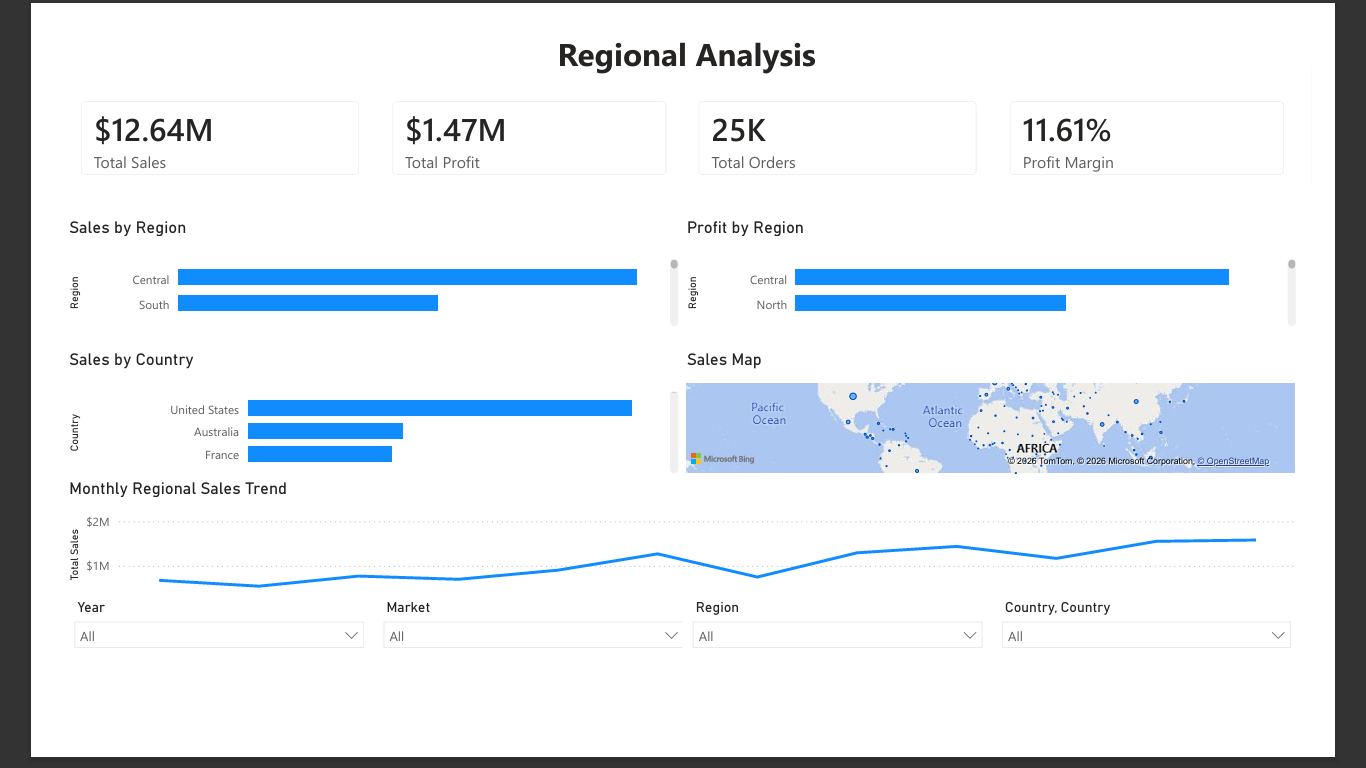

The page's visual inventory and layout, read from the dashboard file:
{"tool":"powerbi","page":{"name":"         Regional Analysis","canvas":[1280,720],"ordinal":3},"visuals":[{"type":"textbox","box":[9.6,0,1259.4,56.4],"z":0},{"type":"cardVisual","fields":{"Data":["superstore.Total Sales"]},"box":[9.6,59.2,316.6,108.7],"z":0,"group":"g1"},{"type":"clusteredBarChart","fields":{"Category":["superstore.Region"],"Y":["superstore.Total Sales"]},"box":[9.6,194.1,630.4,115.6],"z":0,"group":"g2"},{"type":"group","id":"g1","title":"Group 1","box":[9.6,59.2,1259.4,108.7],"z":1000},{"type":"cardVisual","fields":{"Data":["superstore.Total Profit"]},"box":[326.2,59.2,313.8,108.7],"z":1000,"group":"g1"},{"type":"clusteredBarChart","fields":{"Category":["superstore.Region"],"Y":["superstore.Total Profit"]},"box":[638.6,194.1,630.4,115.6],"z":1000,"group":"g2"},{"type":"cardVisual","fields":{"Data":["superstore.Total Orders"]},"box":[638.6,59.2,317,108.7],"z":2000,"group":"g1"},{"type":"group","id":"g2","title":"Group 2","box":[9.6,194.1,1259.4,115.6],"z":2000},{"type":"clusteredBarChart","fields":{"Category":["superstore.Country"],"Y":["superstore.Total Sales"]},"box":[9.6,328.9,630,130.7],"z":2000,"group":"g3"},{"type":"cardVisual","fields":{"Data":["superstore.Profit Margin"]},"box":[955.1,59.2,313.8,108.7],"z":3000,"group":"g1"},{"type":"lineChart","title":"Monthly Regional Sales Trend","fields":{"Y":["superstore.Total Sales"],"Category":["Calendar.Date.Variation.Date Hierarchy.Month"]},"box":[9.6,459.7,1259.4,118.4],"z":3000},{"type":"group","id":"g3","title":"Group 3","box":[9.6,328.9,1259.4,130.8],"z":4000},{"type":"map","title":"Sales Map","fields":{"Category":["superstore.Country"],"Size":["superstore.Total Sales"]},"box":[638.6,328.9,630.4,130.8],"z":4000,"group":"g3"},{"type":"slicer","fields":{"Values":["Calendar.Date.Variation.Date Hierarchy.Year"]},"box":[9.6,578.1,315.2,111.5],"z":5000},{"type":"slicer","fields":{"Values":["superstore.Market"]},"box":[324.8,578.1,326.2,111.5],"z":6000},{"type":"slicer","fields":{"Values":["superstore.Region"]},"box":[640,578.1,315.2,111.5],"z":7000},{"type":"slicer","fields":{"Values":["superstore.Country","superstore.Country"]},"box":[955.2,578.1,313.8,111.5],"z":8000}]}

Visuals, with their boxes in screenshot pixels (x1, y1, x2, y2), scaled from the page's 1280x720 canvas onto the 1366x768 screenshot:
textbox: l=10, t=0, r=1354, b=60
cardVisual - superstore.Total Sales: l=10, t=63, r=348, b=179
clusteredBarChart - superstore.Region x superstore.Total Sales: l=10, t=207, r=683, b=330
"Group 1" group: l=10, t=63, r=1354, b=179
cardVisual - superstore.Total Profit: l=348, t=63, r=683, b=179
clusteredBarChart - superstore.Region x superstore.Total Profit: l=682, t=207, r=1354, b=330
cardVisual - superstore.Total Orders: l=682, t=63, r=1020, b=179
"Group 2" group: l=10, t=207, r=1354, b=330
clusteredBarChart - superstore.Country x superstore.Total Sales: l=10, t=351, r=683, b=490
cardVisual - superstore.Profit Margin: l=1019, t=63, r=1354, b=179
"Monthly Regional Sales Trend" lineChart: l=10, t=490, r=1354, b=617
"Group 3" group: l=10, t=351, r=1354, b=490
"Sales Map" map: l=682, t=351, r=1354, b=490
slicer - Calendar.Date.Variation.Date Hierarchy.Year: l=10, t=617, r=347, b=736
slicer - superstore.Market: l=347, t=617, r=695, b=736
slicer - superstore.Region: l=683, t=617, r=1019, b=736
slicer - superstore.Country x superstore.Country: l=1019, t=617, r=1354, b=736
